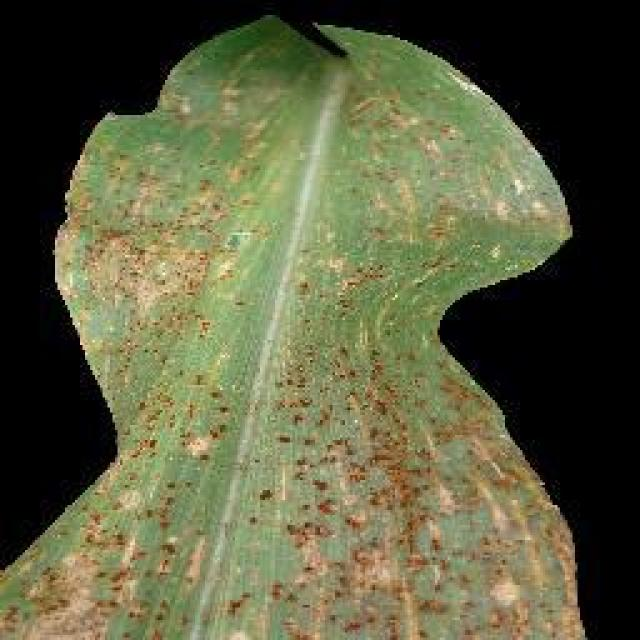Corn Common Rust: (148, 32, 520, 640)
